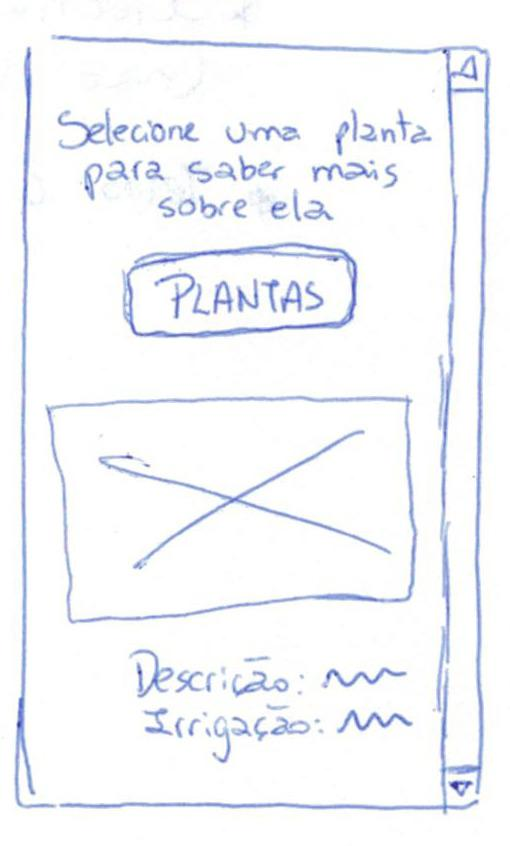Button: (125, 243, 359, 340)
Image: (47, 397, 416, 625)
Label: (54, 106, 436, 225), (130, 647, 410, 702), (143, 706, 413, 763)
Screen: (24, 34, 490, 809)
